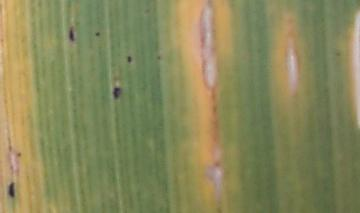tarspot: (5, 180, 18, 200), (111, 85, 121, 101), (67, 24, 75, 43), (332, 48, 342, 58), (126, 54, 134, 65), (142, 7, 152, 15), (15, 149, 23, 157), (94, 31, 101, 37), (155, 55, 162, 61)
